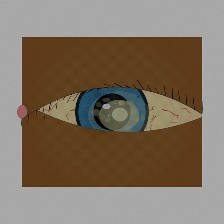corneal_ulcer: (87, 89, 152, 142)
